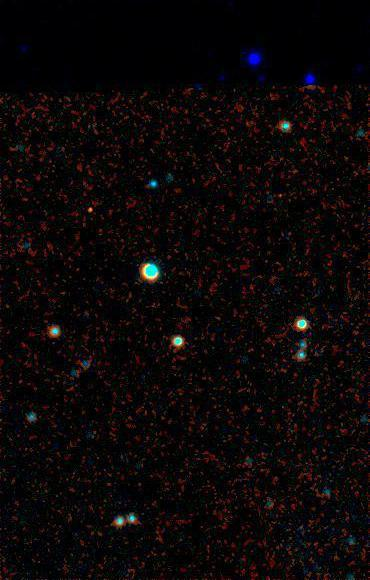star: (76, 196, 106, 226)
